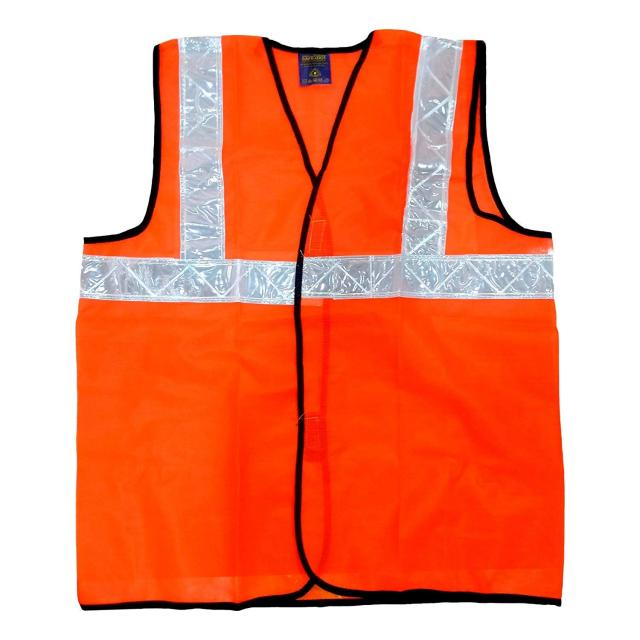Reflective-Jacket: (70, 1, 589, 639), (54, 31, 596, 261)
